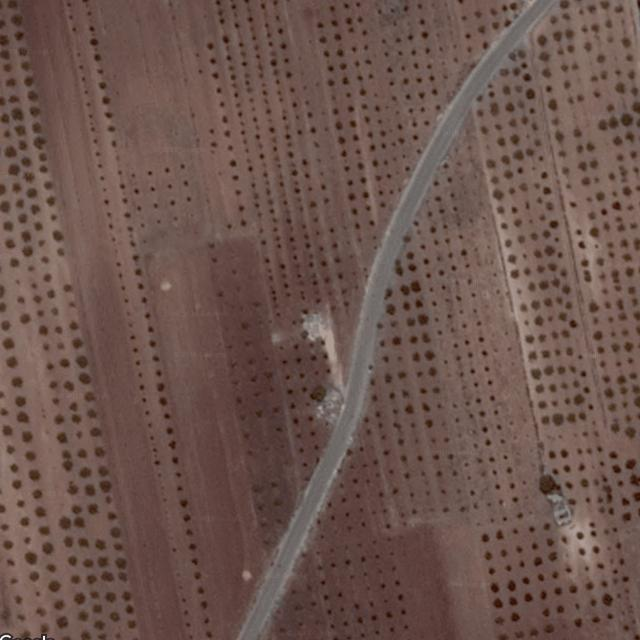damaged_building: (302, 312, 330, 340)
